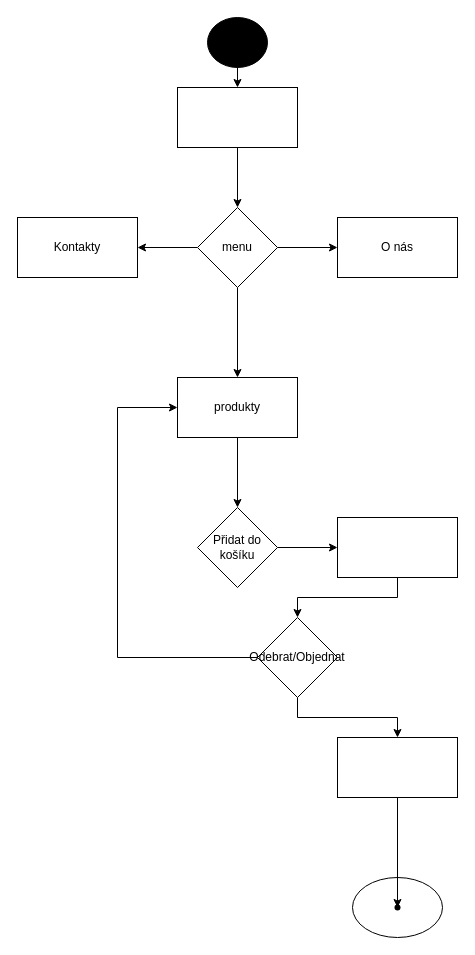
Image size: 475x955. Some labels were removed from this diagram. Here are the shapes that lost their labels. From the top down, the centre of each, then its label:
At pixel 237 117: "Úvodní stránka".
At pixel 397 547: "Košík".
At pixel 397 767: "Formular pro objednání".
